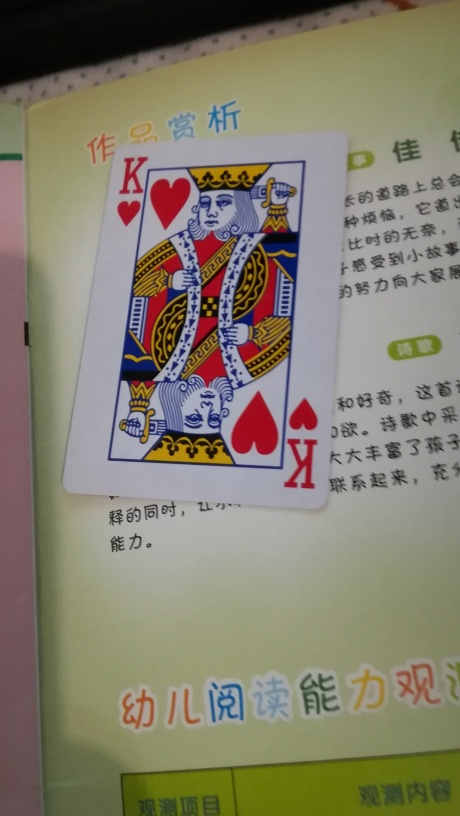hx k: (60, 133, 338, 511)
